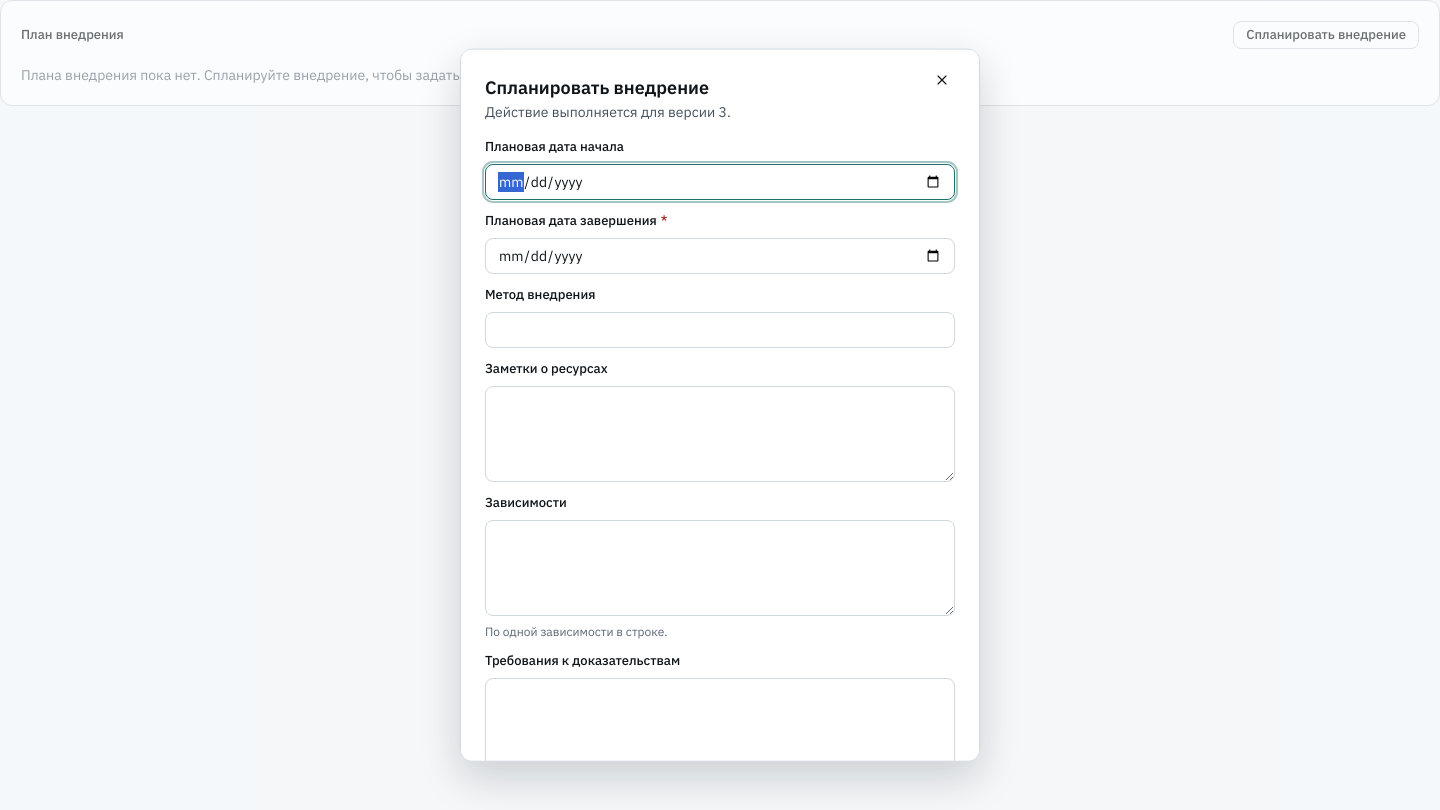
ImplementationPlanSection › blocks submit with a field error when a milestone has no title
Type "2026-09-01" into the date field labelled "Плановая дата завершения*".
click(720, 256); type("2026-09-01")  # box [485,238,955,274]
(page scrolled)
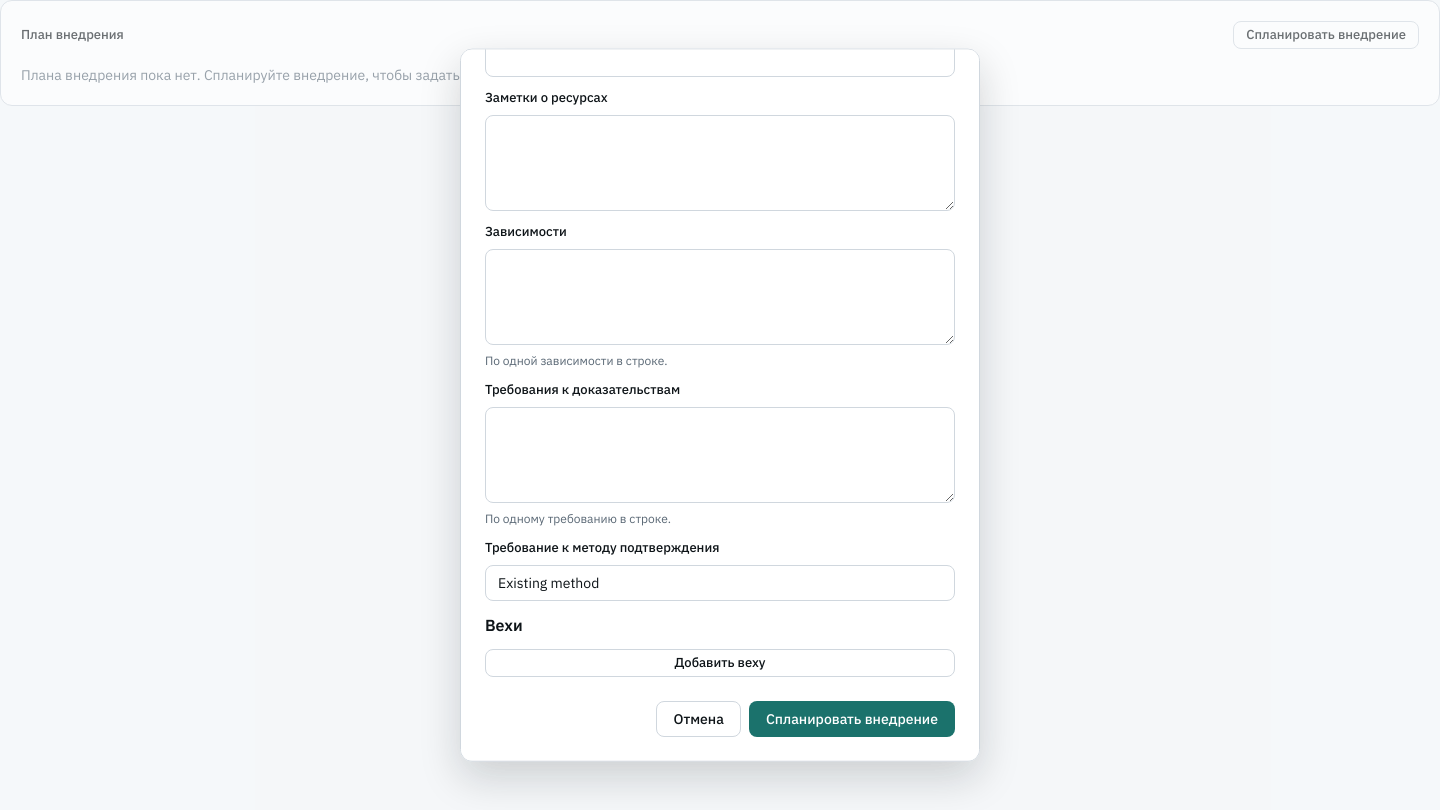
Click the button "Добавить веху".
click(720, 663)  # box [485,649,955,677]
(page scrolled)
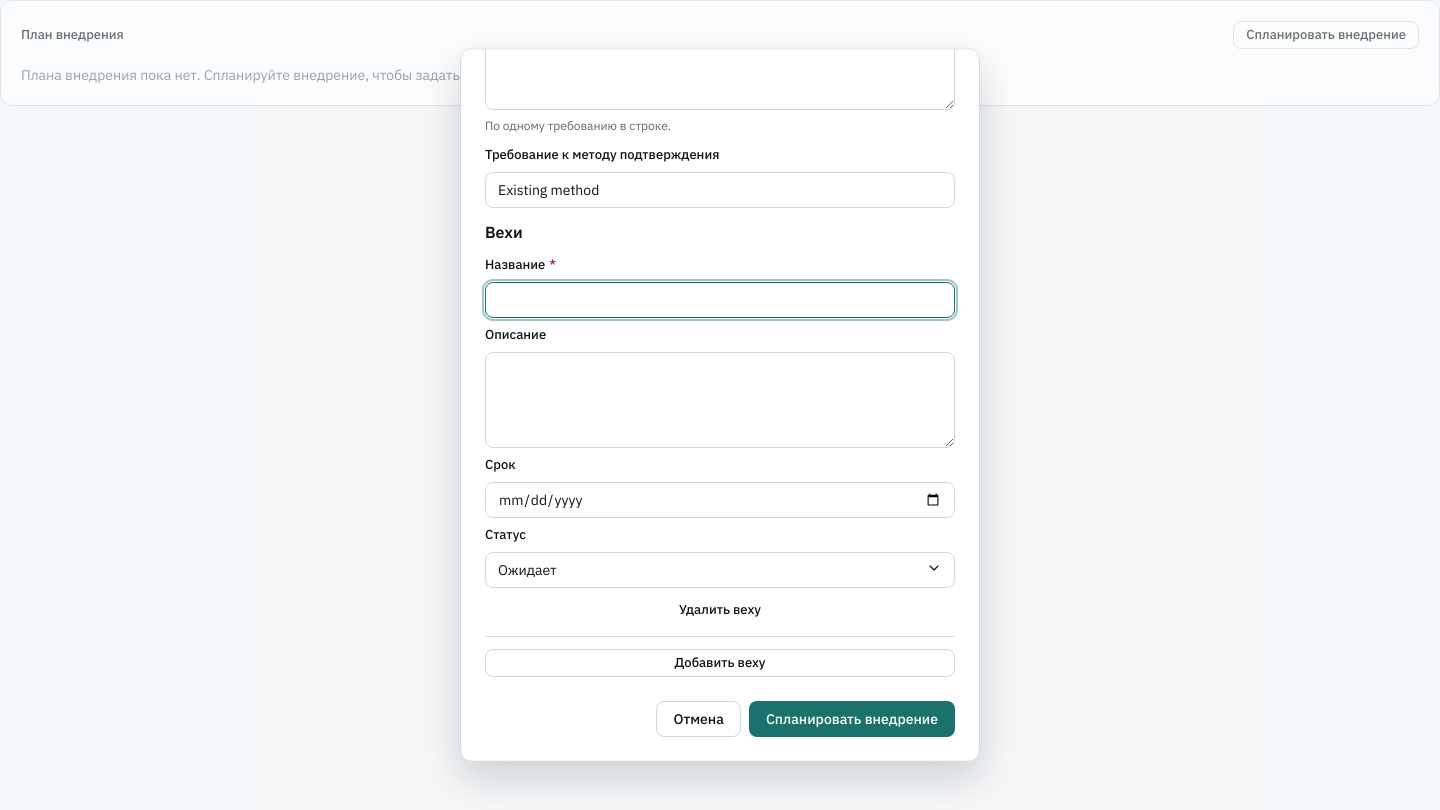
Click the button "Спланировать внедрение".
click(852, 719)  # box [749,701,955,737]
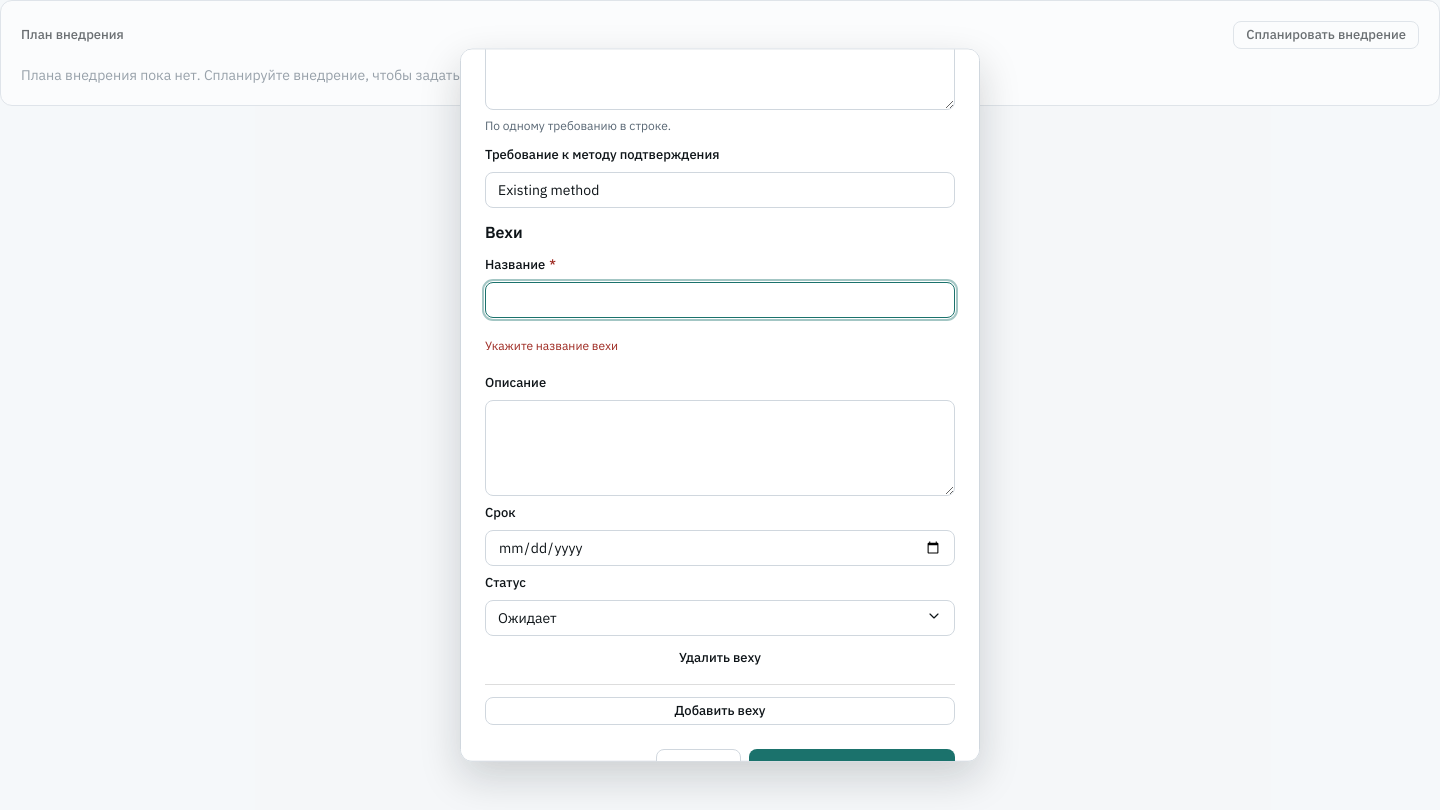
expect the text "Укажите название вехи" is shown: met, box [485,338,618,353]
